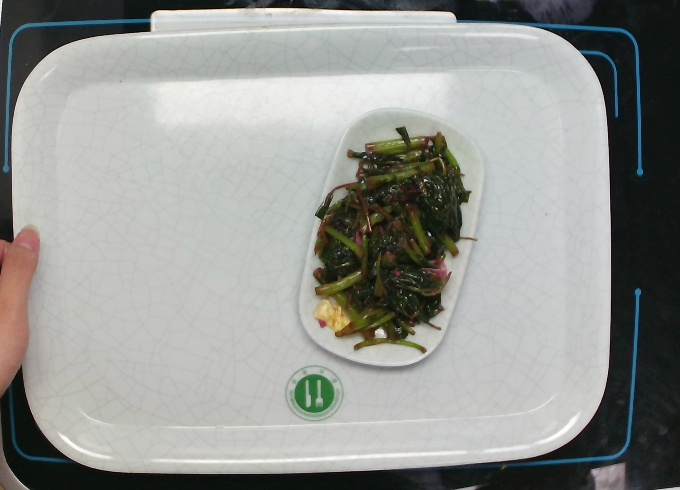WCQzf-Tuo_Yuan_Pan: (295, 104, 488, 374)
